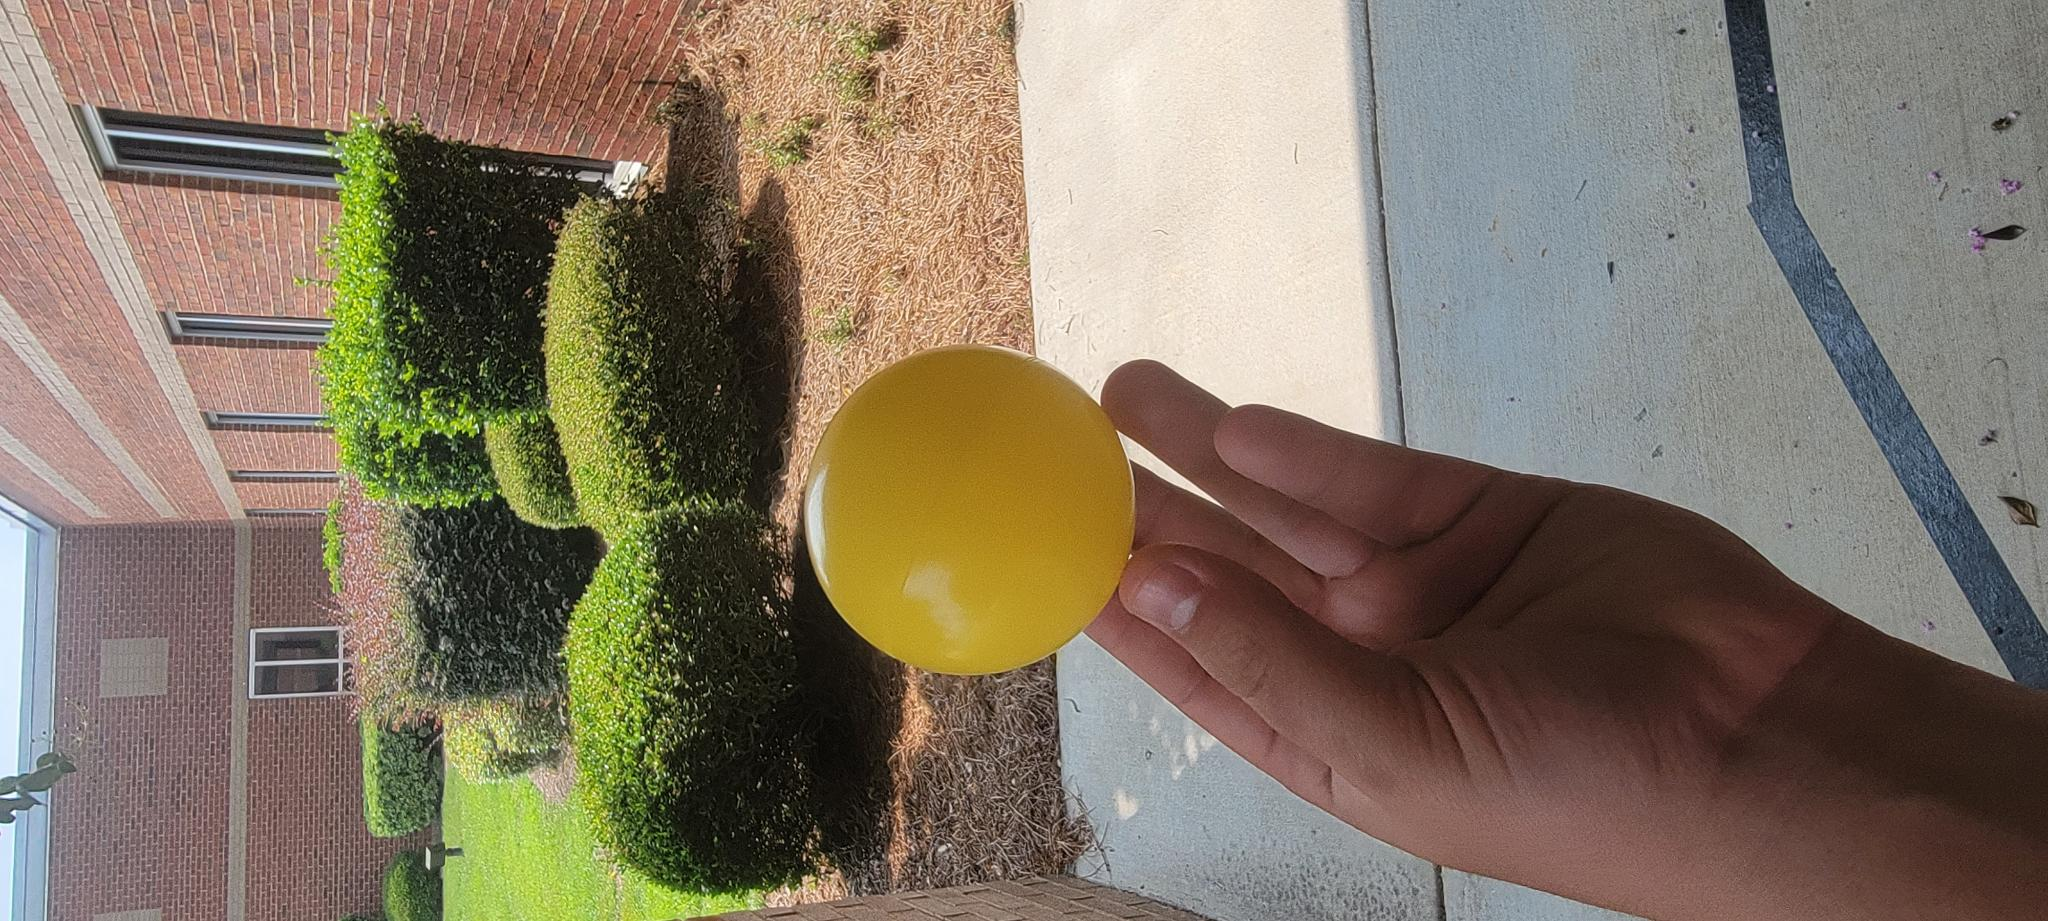Yellow-Ball: (247, 805, 579, 921)
